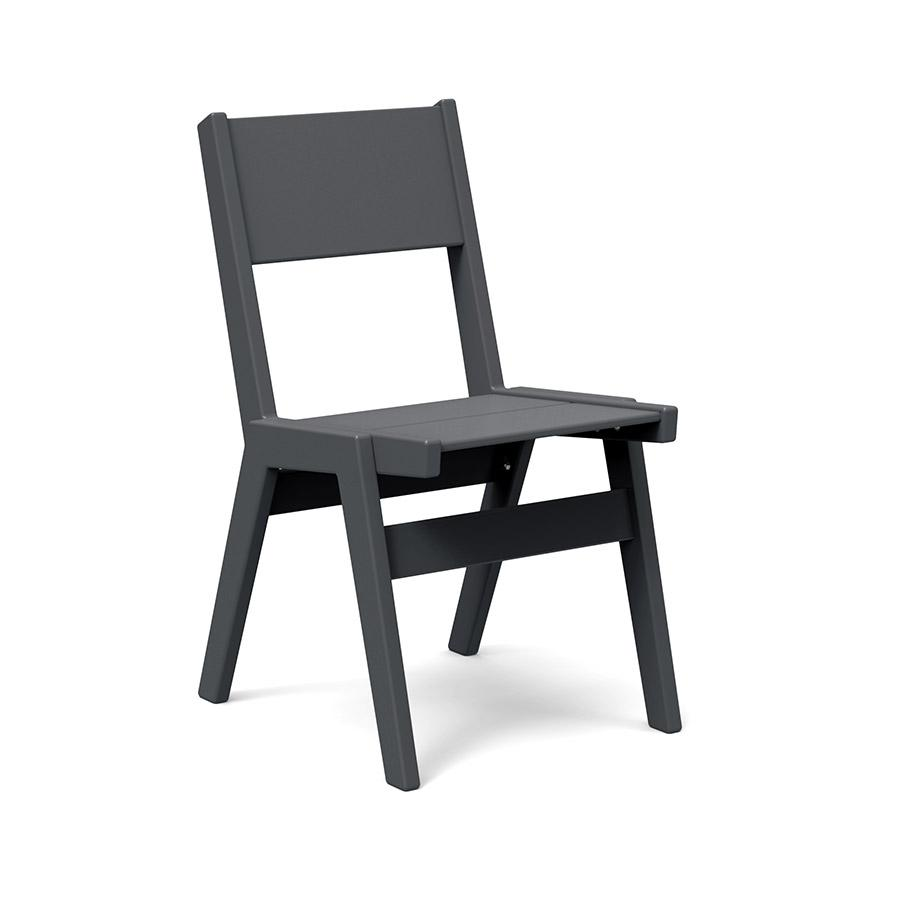chair: (159, 60, 737, 806)
